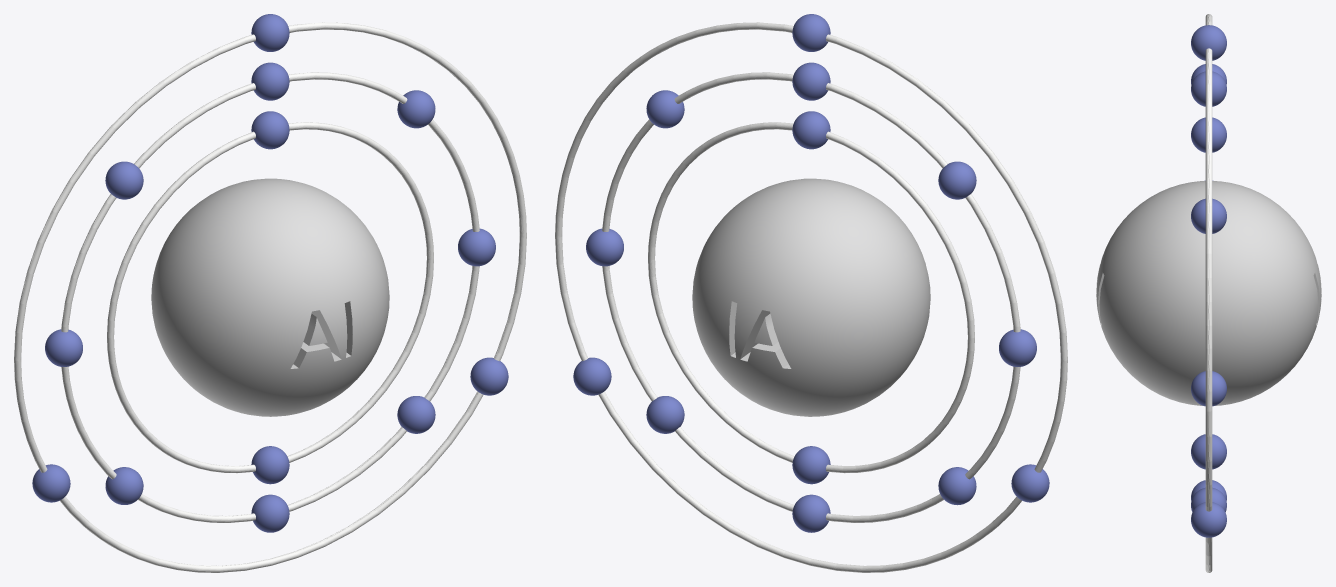
Rendered from asset.glb.
3 renders of one model, left to right at view 1: azimuth 30°, elevation 25°; view 2: azimuth 150°, elevation 25°; view 3: azimuth 270°, elevation 25°, orthographic. The views are drawn at different scales.
Parts seen in each view (by area): view 1: Body18, Body4, Body3, Body2, Body9, Body16, Body13, Body5, Body6, Body10, Body12, Body15 (+5 smaller); view 2: Body18, Body4, Body3, Body2, Body9, Body16, Body13, Body5, Body6, Body10, Body14, Body7 (+5 smaller); view 3: Body18, Body4, Body16, Body7, Body17, Body5, Body8, Body6, Body14, Body13.
Part boxes in pixels (left/top/right/bottom): Body18: left=151, top=178, right=389, bottom=416; Body4: left=14, top=22, right=526, bottom=572; Body3: left=61, top=72, right=479, bottom=522; Body2: left=107, top=122, right=433, bottom=473; Body9: left=105, top=161, right=143, bottom=199; Body16: left=470, top=357, right=508, bottom=395; Body13: left=397, top=396, right=435, bottom=433; Body5: left=251, top=111, right=289, bottom=149; Body6: left=251, top=62, right=289, bottom=100; Body10: left=45, top=329, right=82, bottom=366; Body12: left=251, top=494, right=289, bottom=532; Body15: left=32, top=464, right=70, bottom=502; Body18: left=692, top=178, right=930, bottom=416; Body4: left=555, top=22, right=1067, bottom=572; Body3: left=602, top=72, right=1020, bottom=522; Body2: left=648, top=122, right=974, bottom=473; Body9: left=938, top=161, right=976, bottom=199; Body16: left=573, top=357, right=611, bottom=395; Body13: left=646, top=396, right=684, bottom=433; Body5: left=792, top=111, right=830, bottom=149; Body6: left=792, top=62, right=830, bottom=100; Body10: left=999, top=329, right=1036, bottom=366; Body14: left=586, top=228, right=623, bottom=266; Body7: left=792, top=14, right=830, bottom=51; Body18: left=1096, top=181, right=1321, bottom=405; Body4: left=1205, top=14, right=1212, bottom=572; Body16: left=1191, top=502, right=1226, bottom=537; Body7: left=1191, top=25, right=1226, bottom=60; Body17: left=1191, top=198, right=1226, bottom=233; Body5: left=1191, top=117, right=1226, bottom=152; Body8: left=1191, top=434, right=1226, bottom=469; Body6: left=1191, top=71, right=1226, bottom=106; Body14: left=1191, top=371, right=1226, bottom=406; Body13: left=1191, top=487, right=1226, bottom=512.
Bounding box in the file's own units: 248 × 254 × 99.97.
